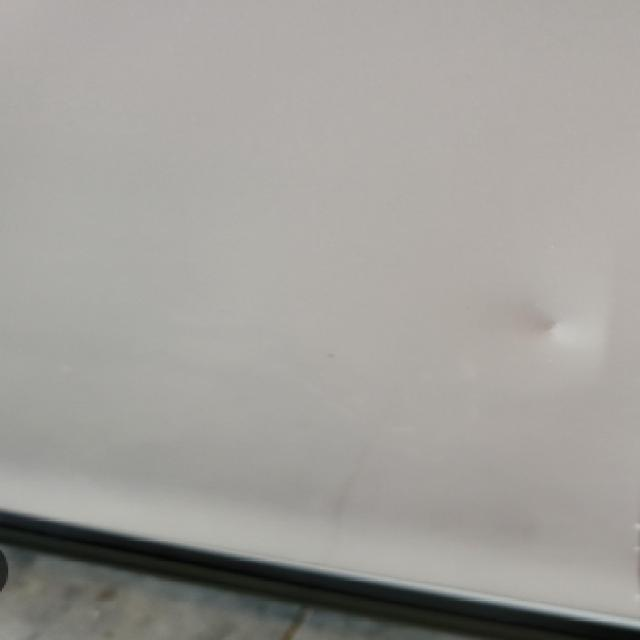dents: (498, 287, 640, 398)
